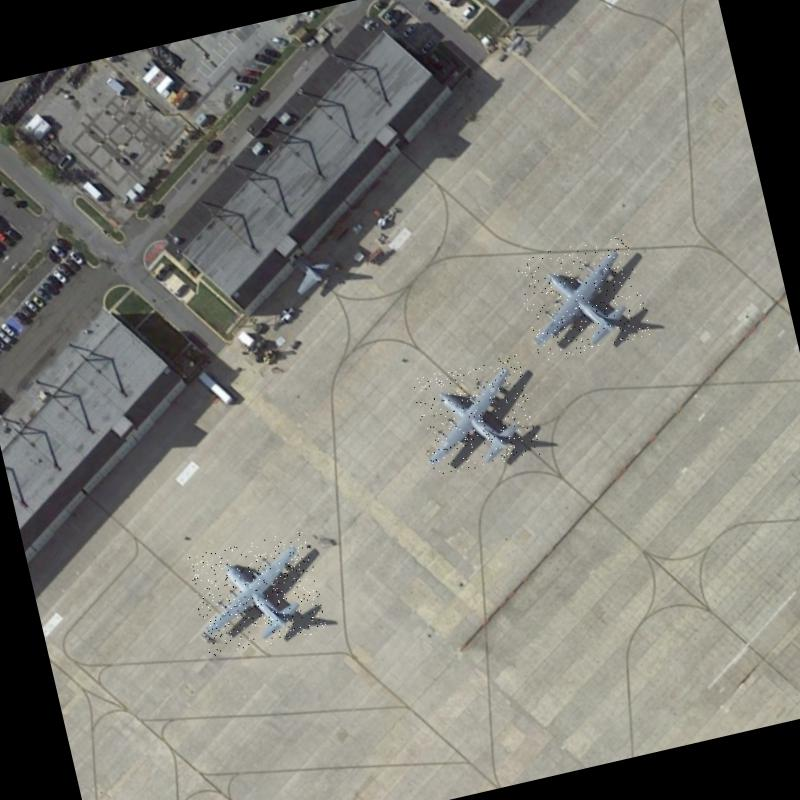A2: (186, 528, 328, 657), (513, 232, 653, 362), (410, 354, 540, 478)
